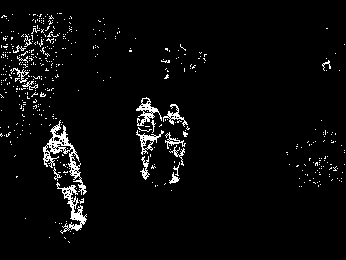person: (43, 118, 89, 237), (133, 97, 162, 180), (161, 103, 190, 186)
